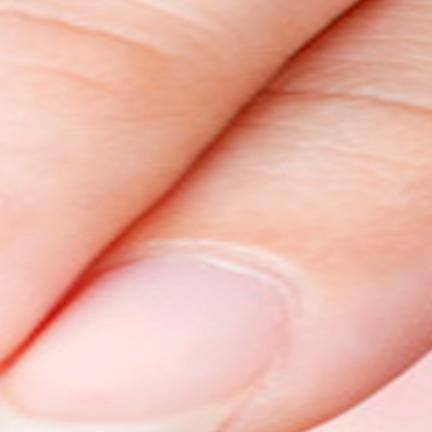Nail: (0, 253, 285, 431)
